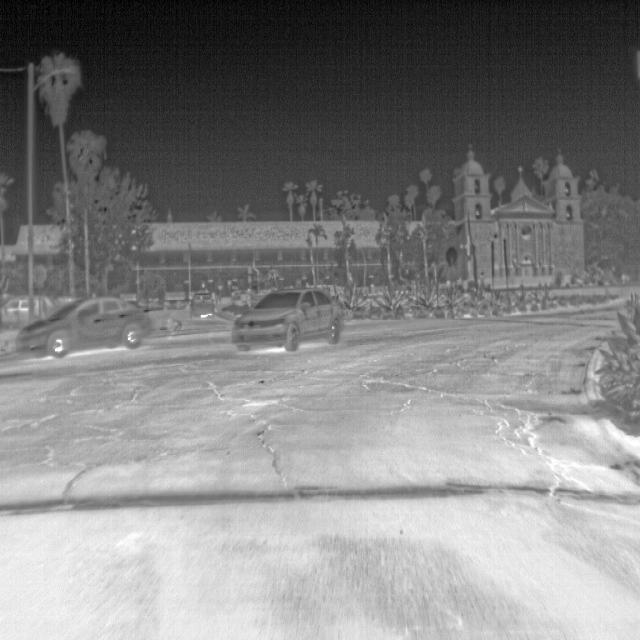Vehicle: (14, 292, 153, 360), (229, 284, 345, 355), (188, 290, 216, 320)
